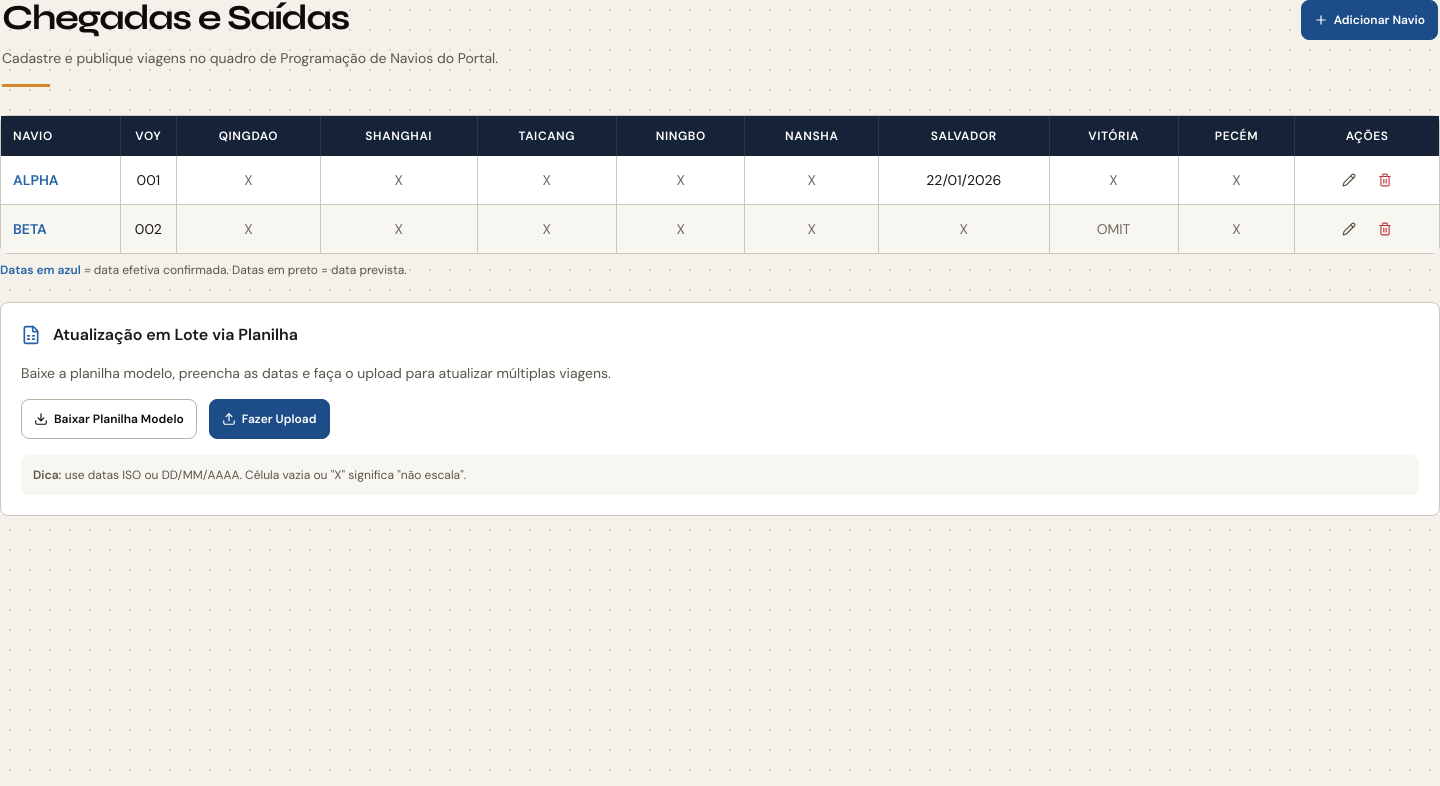
Test case: ChegadasSaidas user behaviours › preenche edição a partir da viagem projetada
Step 1. Click the button titled "Editar" in the row of "ALPHA" → (1349, 180), box [1333,164,1365,196]
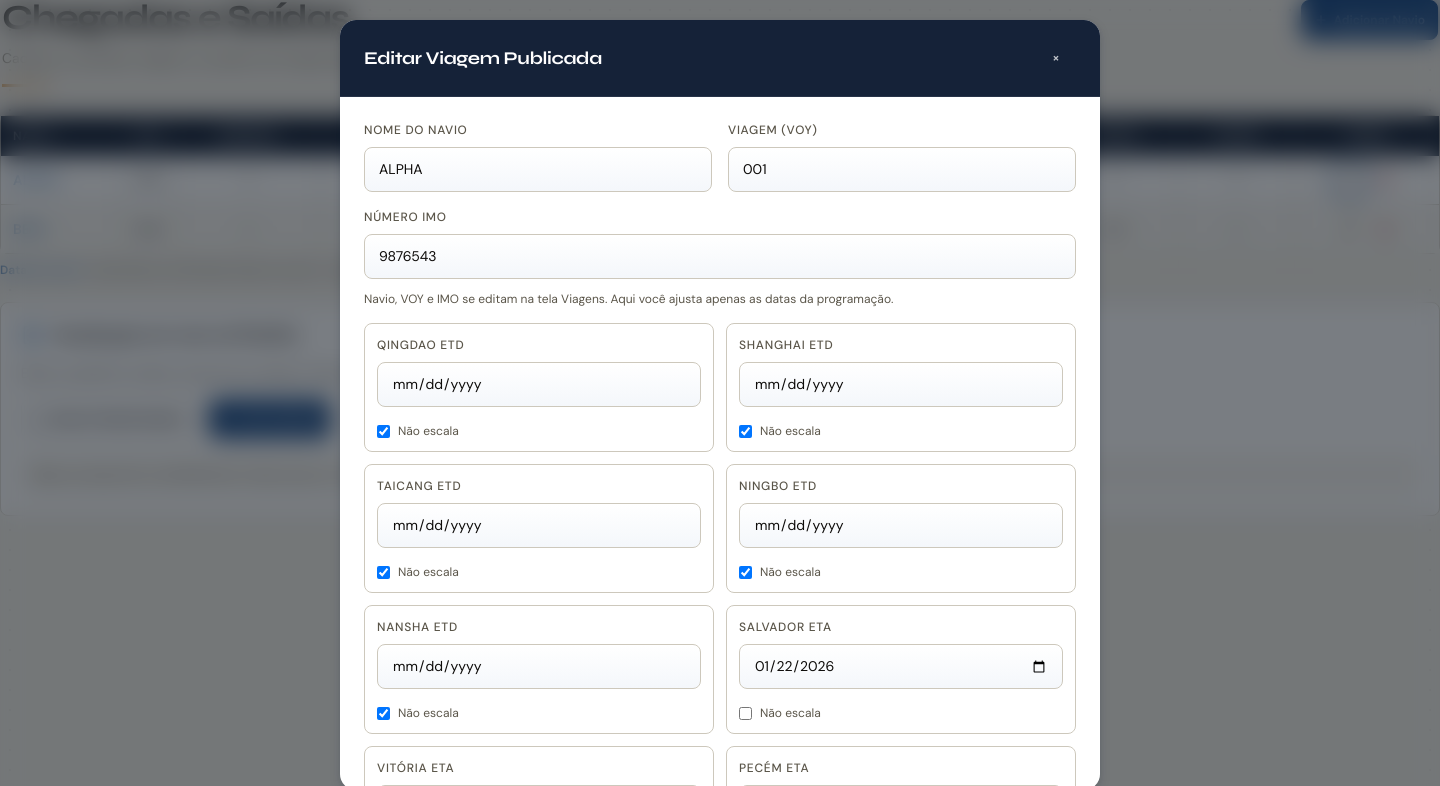
Expected: the field labelled "Nome do Navio" holds "ALPHA", [364,147,712,192]
Expected: the field labelled "Viagem (VOY)" holds "001", [728,147,1076,192]
